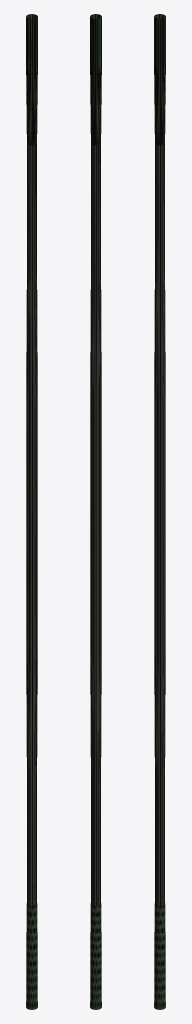
The model's file is poubelle.fbx.
3 views of the same model, side by side, from view 1: azimuth 30°, elevation 25°; view 2: azimuth 150°, elevation 25°; view 3: azimuth 330°, elevation 25° (orthographic).
Parts seen in each view (by area): view 1: poubelle; view 2: poubelle; view 3: poubelle.
Boxes of the visible parts, x1,y1,x2,y2 form: poubelle: (26, 14, 37, 1009); poubelle: (90, 14, 101, 1009); poubelle: (154, 14, 165, 1009).
Size of the model in its own units: 6.67 by 611 by 6.67.
2 materials, 2 textured.
